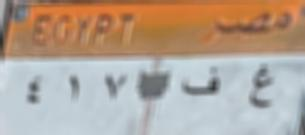1: (63, 74, 84, 109)
4: (22, 74, 47, 111)
7: (100, 67, 129, 108)
faa: (180, 65, 224, 101)
ghayn: (244, 62, 276, 114)
